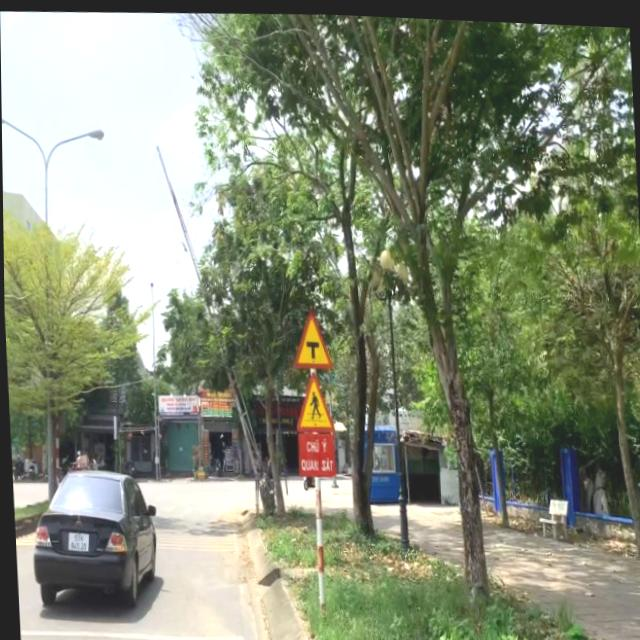Duong giao nhau cung cap: (288, 303, 332, 370)
Nguoi di bo cat ngang: (291, 366, 335, 435)
